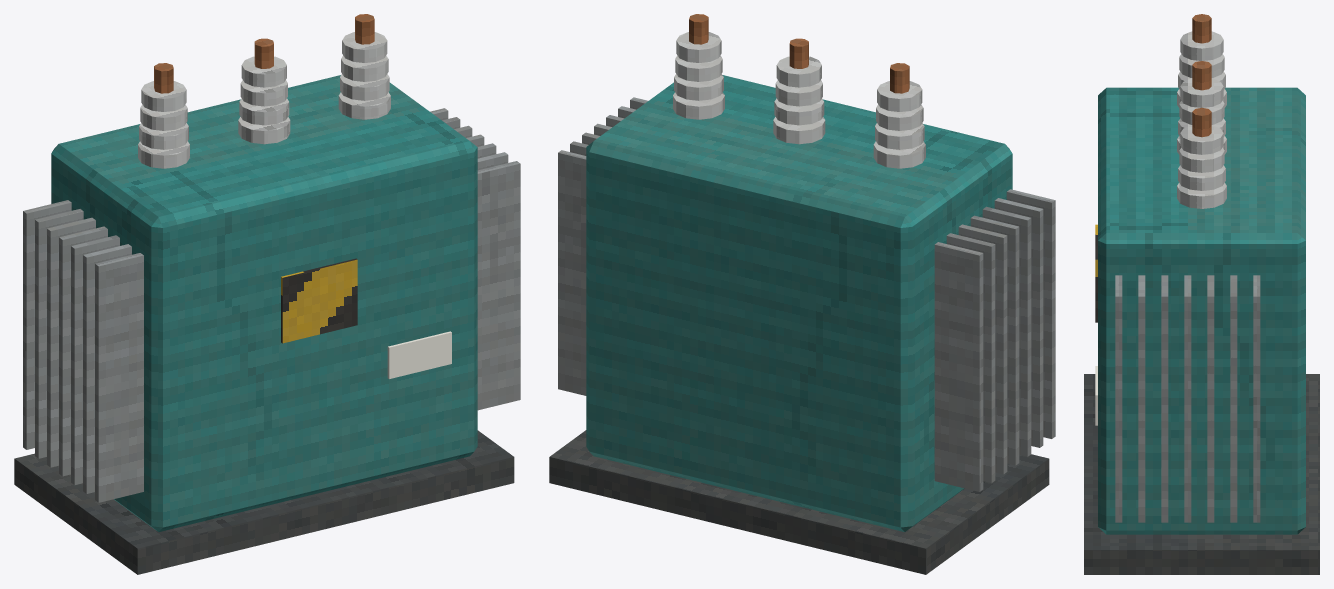
The model's file is transformer.glb.
3 renders of one model, left to right at view 1: azimuth 30°, elevation 25°; view 2: azimuth 150°, elevation 25°; view 3: azimuth 270°, elevation 25°, orthographic. The views are drawn at different scales.
Parts seen in each view (by area): view 1: body; view 2: body; view 3: body.
Part boxes in pixels (bbox=[...]): body: bbox=[14, 14, 520, 574]; body: bbox=[549, 14, 1055, 574]; body: bbox=[1084, 14, 1319, 574].
Bounding box in the file's own units: 1.68 × 1.68 × 0.85.
7 materials, 6 textured.
